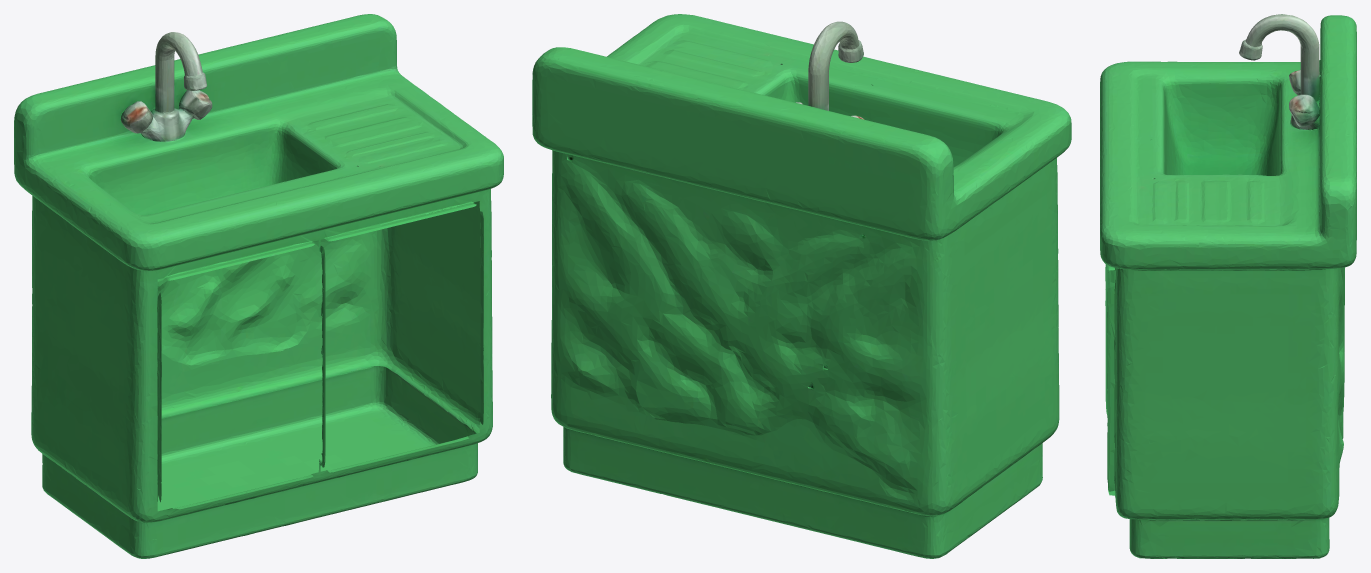
3 renders of one model, left to right at view 1: azimuth 30°, elevation 25°; view 2: azimuth 150°, elevation 25°; view 3: azimuth 270°, elevation 25°, orthographic. The views are drawn at different scales.
Parts seen in each view (by area): view 1: source_surface_0; view 2: source_surface_0; view 3: source_surface_0.
Part boxes in pixels (box(x1,y1,x2,y2)): source_surface_0: box(14, 14, 503, 558); source_surface_0: box(532, 14, 1071, 558); source_surface_0: box(1100, 14, 1356, 558).
Bounding box in the file's own units: 0.3 × 0.3374 × 0.1799.
1 material, 1 textured.
